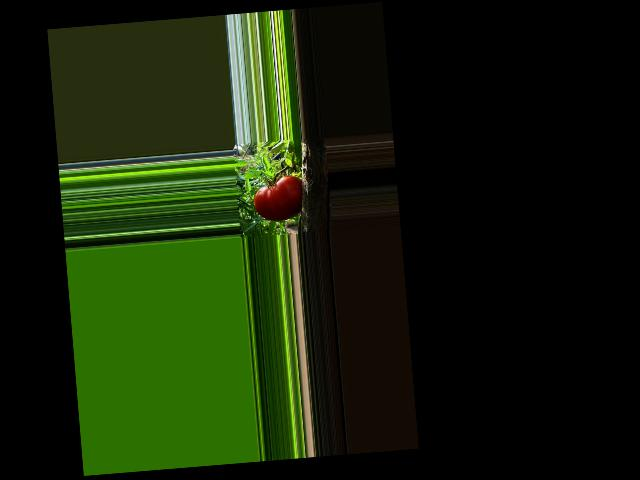tomato: (251, 174, 305, 222)
